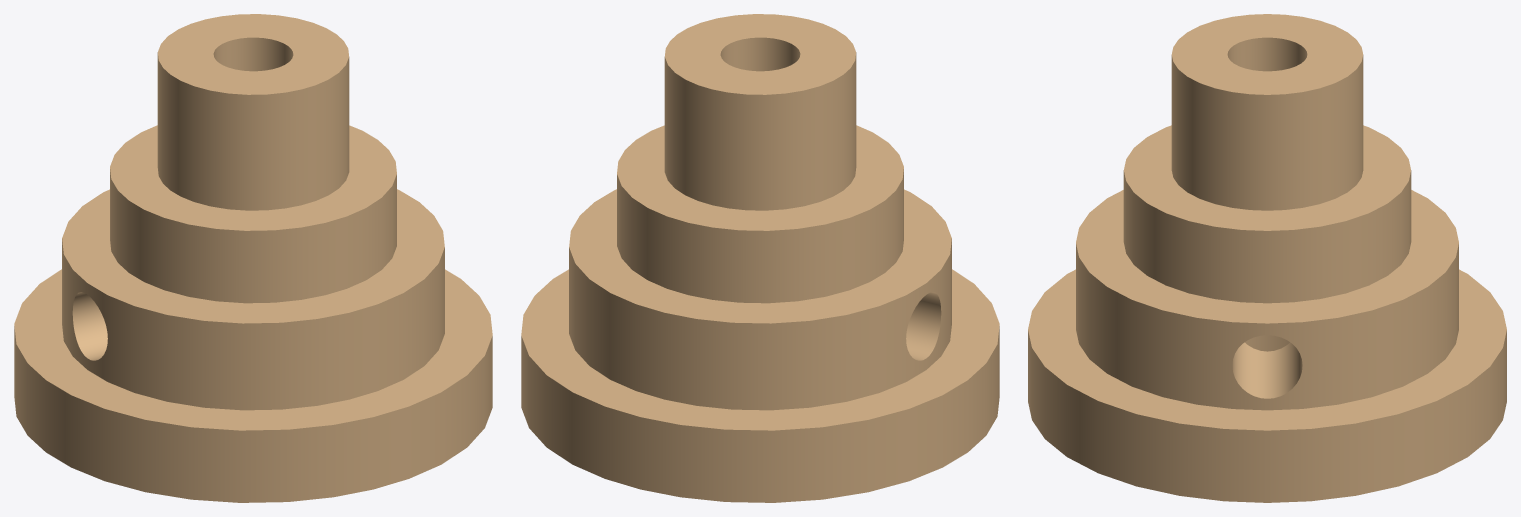
The model's file is 06_nozzle_adapter.glb.
3 renders of one model, left to right at view 1: azimuth 30°, elevation 25°; view 2: azimuth 150°, elevation 25°; view 3: azimuth 270°, elevation 25°, orthographic.
Parts seen in each view (by area): view 1: body; view 2: body; view 3: body.
Boxes of the visible parts, x1=… form: body: x1=14, y1=14, x2=492, y2=502; body: x1=521, y1=14, x2=999, y2=502; body: x1=1028, y1=14, x2=1506, y2=502.
Size of the model in its own units: 30 by 24 by 30.
